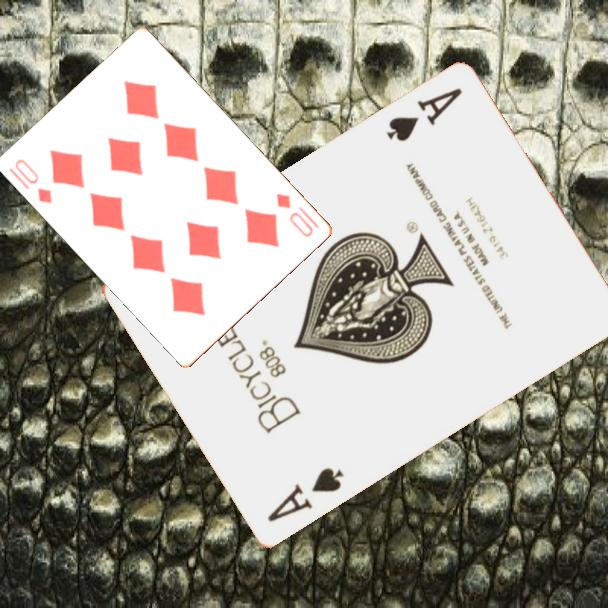d10: (6, 155, 56, 206), (273, 190, 317, 240)
s01: (263, 464, 347, 526), (382, 84, 465, 145)
